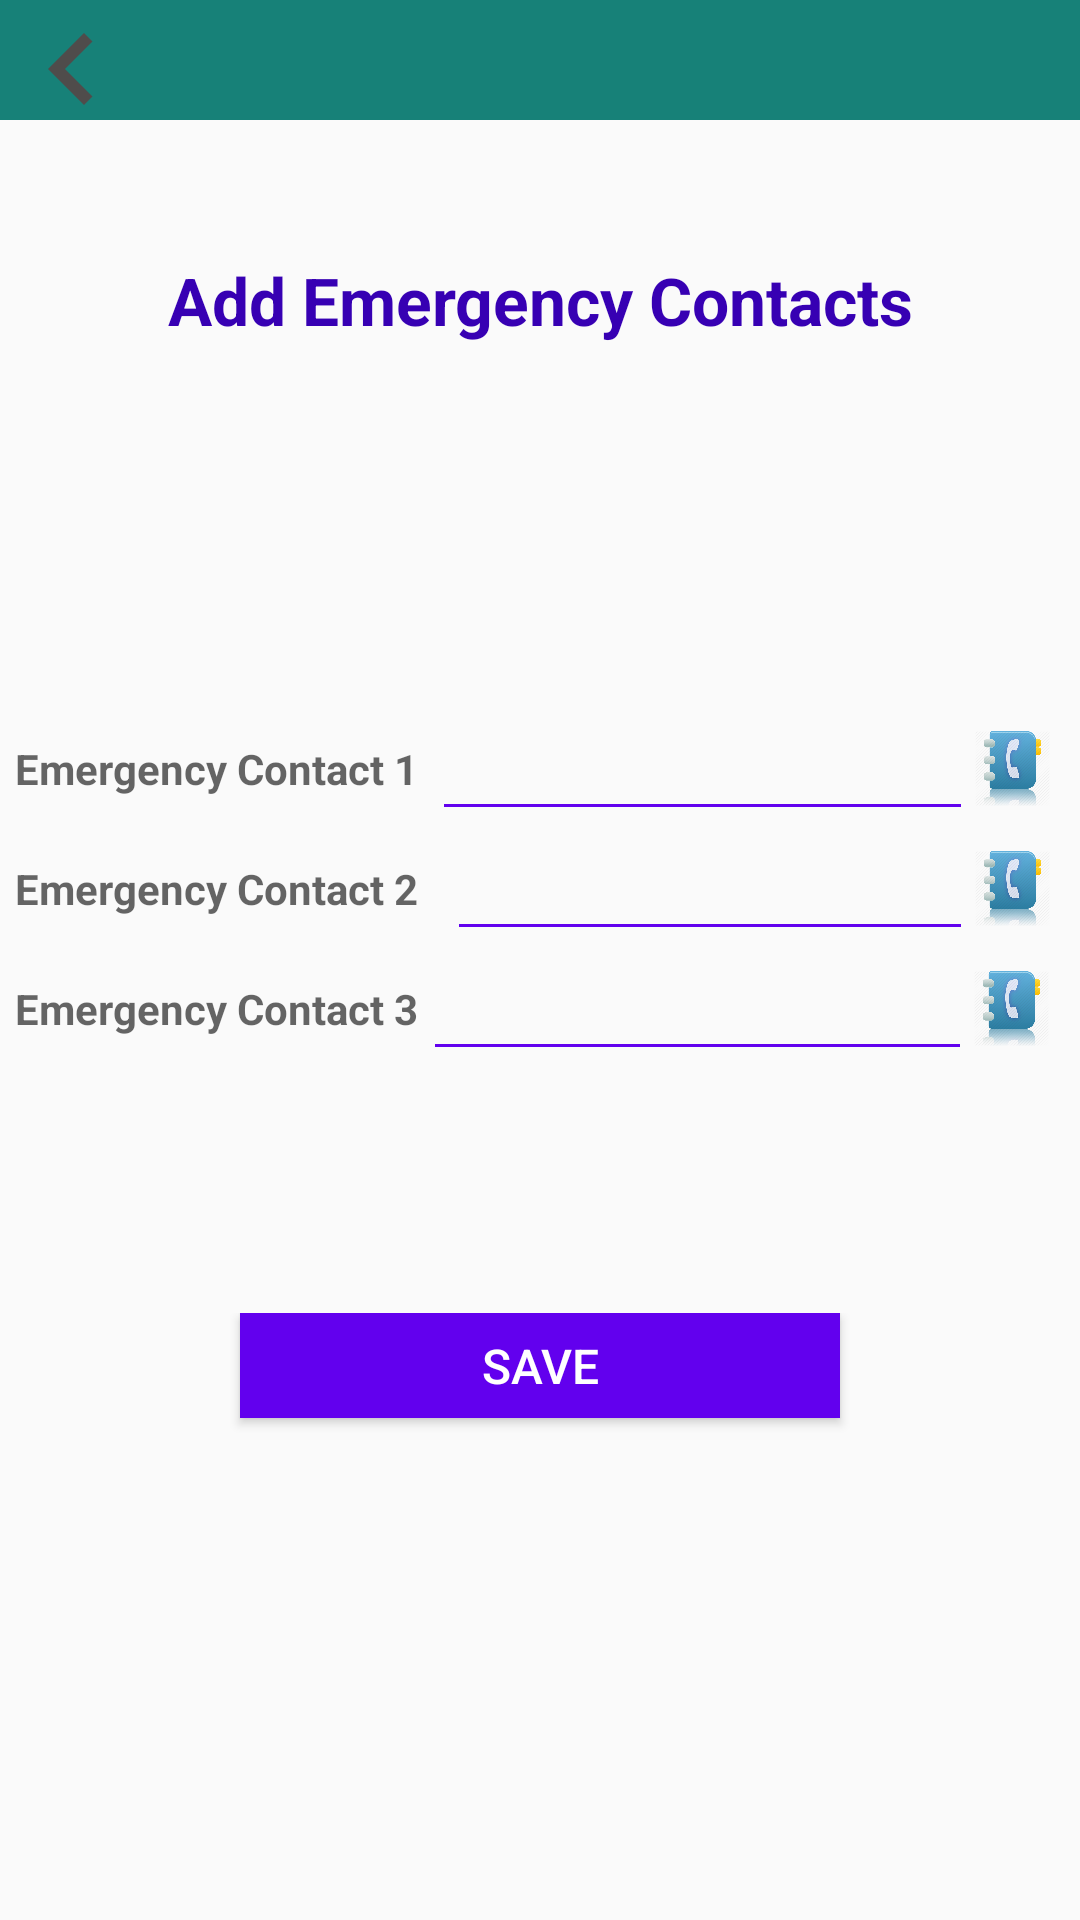

Icon click points for this 1080px x 1920px phone screenshot, format [x,y]:
keyboard arrow left: [70,69]
phonebook: [1012,767], [1012,887], [1011,1007]
